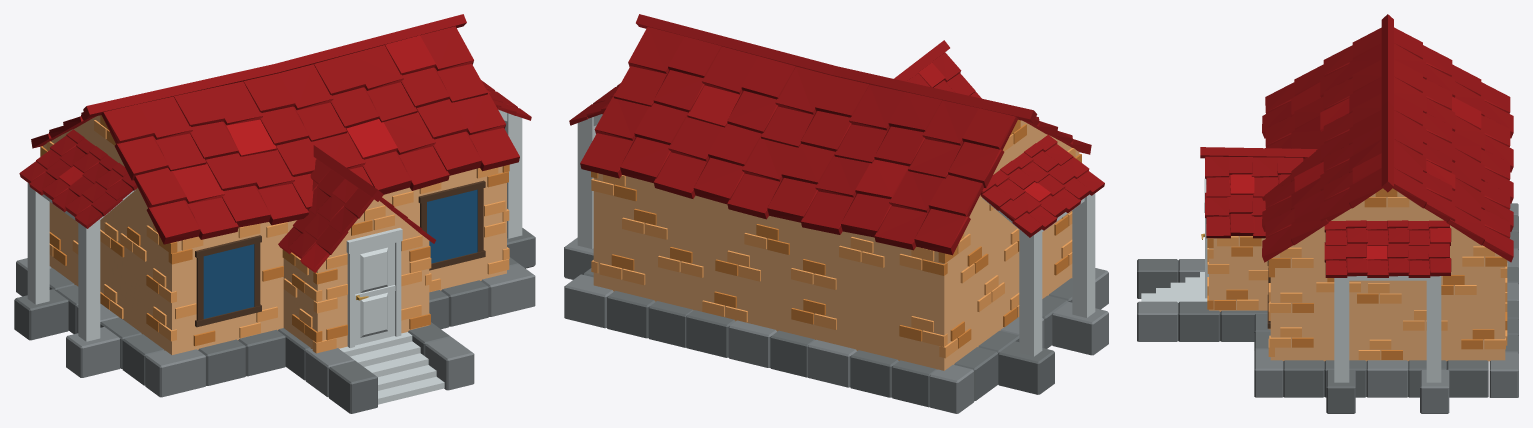
The model's file is SM_House_1.FBX.
The picture shows the model from 3 angles, left to right: view 1: azimuth 30°, elevation 25°; view 2: azimuth 150°, elevation 25°; view 3: azimuth 270°, elevation 25°; orthographic projection. The views are drawn at different scales.
Parts seen in each view (by area): view 1: SM_House_1; view 2: SM_House_1; view 3: SM_House_1.
Part boxes in pixels (x1=…): SM_House_1: x1=14, y1=14, x2=535, y2=413; SM_House_1: x1=564, y1=14, x2=1108, y2=413; SM_House_1: x1=1137, y1=14, x2=1518, y2=413.
Size of what is drawn, in the model's own units: 1140 by 911 by 570.
